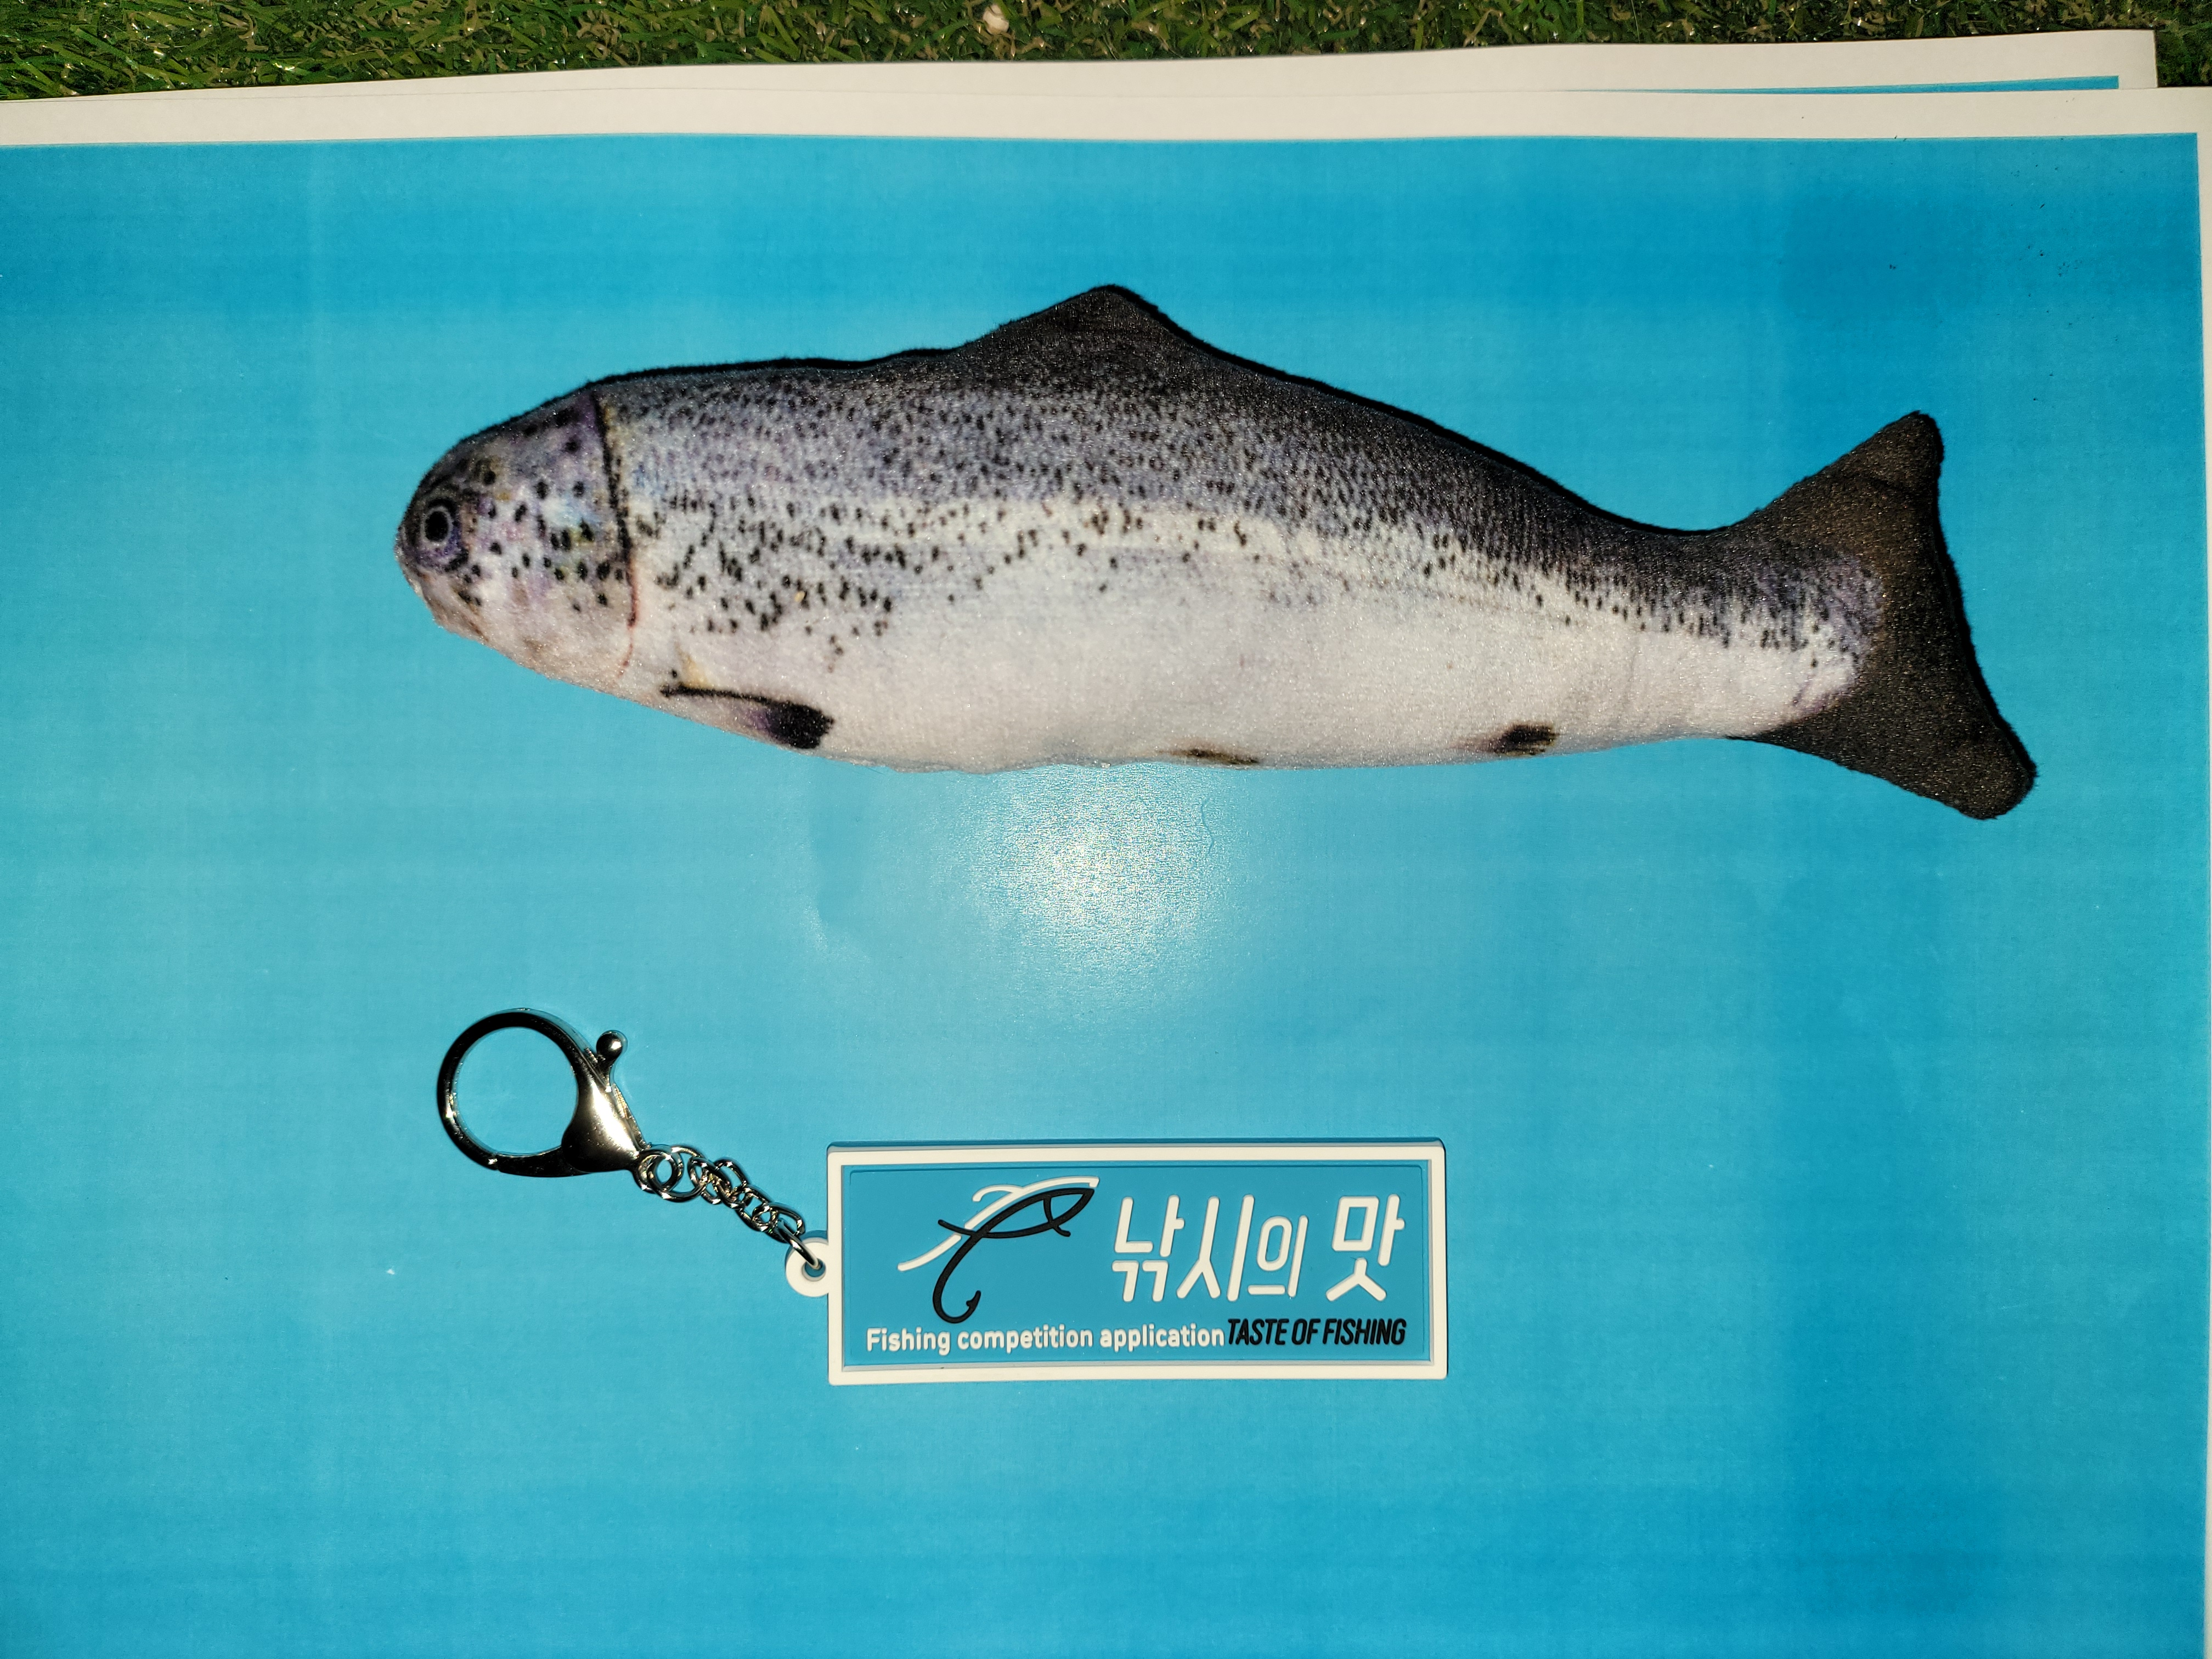fish: (394, 282, 2043, 824)
tag: (829, 1145, 1449, 1387)
